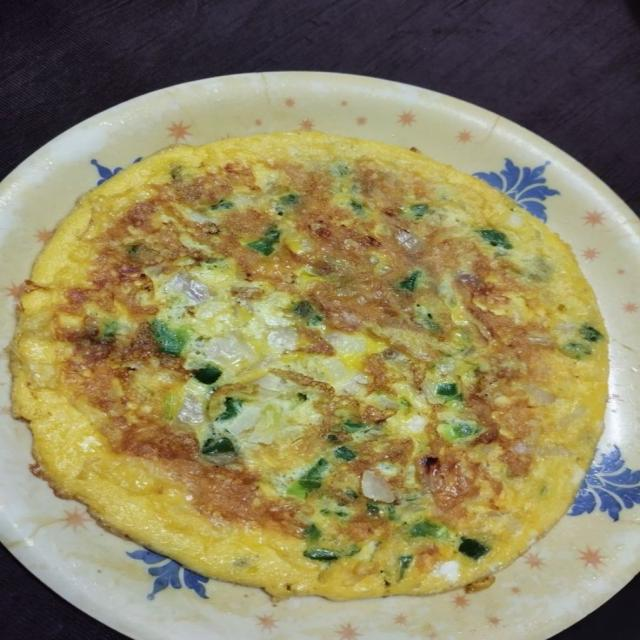omelette: (12, 133, 607, 598)
